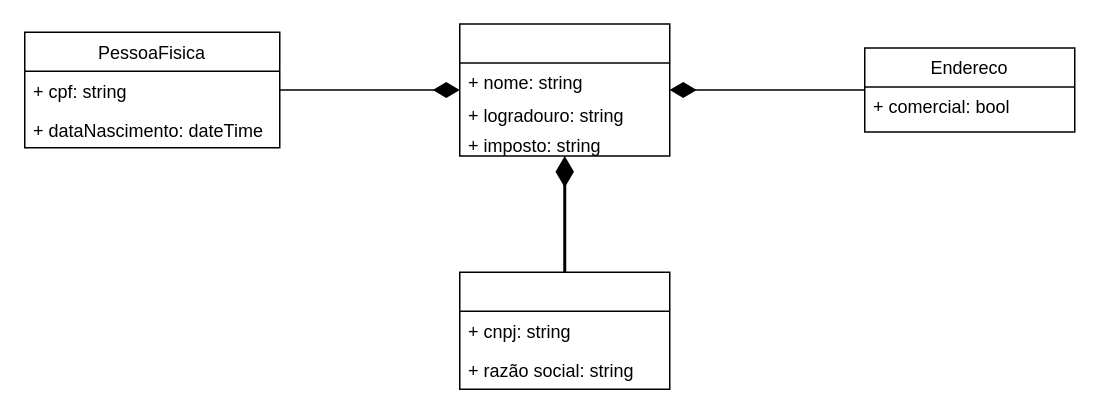
This 1100x414 diagram has some shape labels left out. The shapes that lost their labels are listed below. From the top down, each one's box as (x1, y1, x2, y2) in pixels, then its label:
(458, 22, 670, 156): Pessoa
(458, 271, 670, 389): PessoaJuridica
